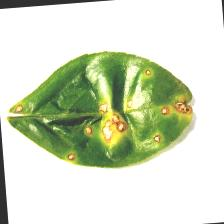canker: (10, 61, 198, 167)
